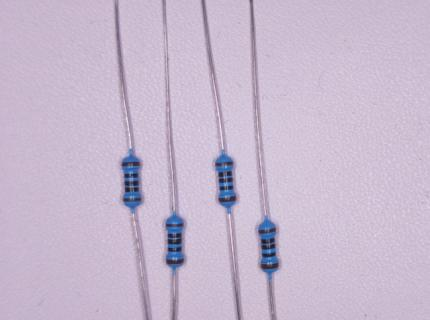Black band: (261, 237, 275, 244), (262, 243, 276, 250), (218, 171, 232, 177), (219, 177, 233, 183), (262, 251, 276, 257), (168, 232, 182, 238), (168, 238, 182, 244), (168, 246, 182, 252), (124, 173, 139, 178), (125, 181, 139, 186), (125, 187, 139, 192), (219, 185, 233, 190)
Brown band: (218, 195, 237, 202), (260, 262, 279, 269), (258, 227, 276, 234), (166, 258, 185, 264), (122, 161, 140, 167), (123, 197, 142, 202), (165, 222, 184, 227), (215, 161, 234, 166)
